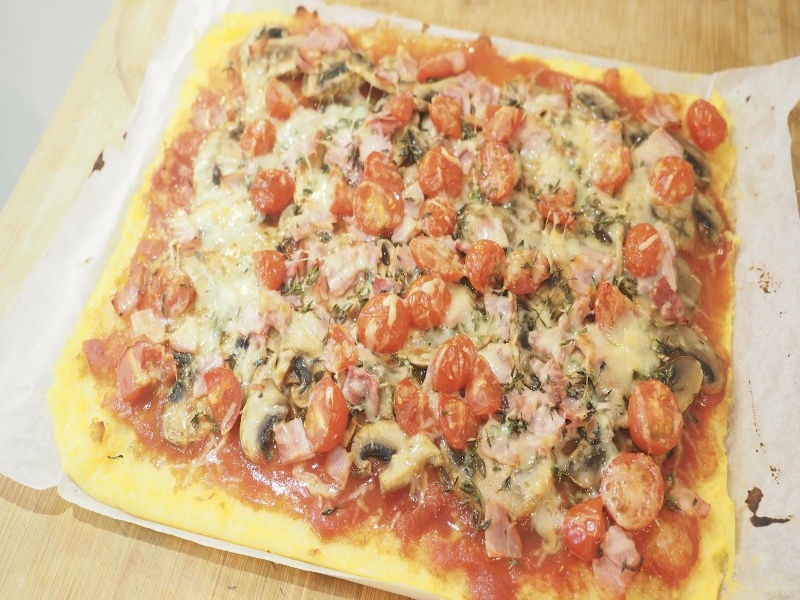champignon: (347, 419, 448, 494), (240, 387, 290, 468), (662, 351, 706, 419)
